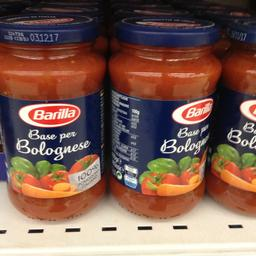tomato_sauce: (106, 12, 222, 220), (0, 9, 107, 223)
